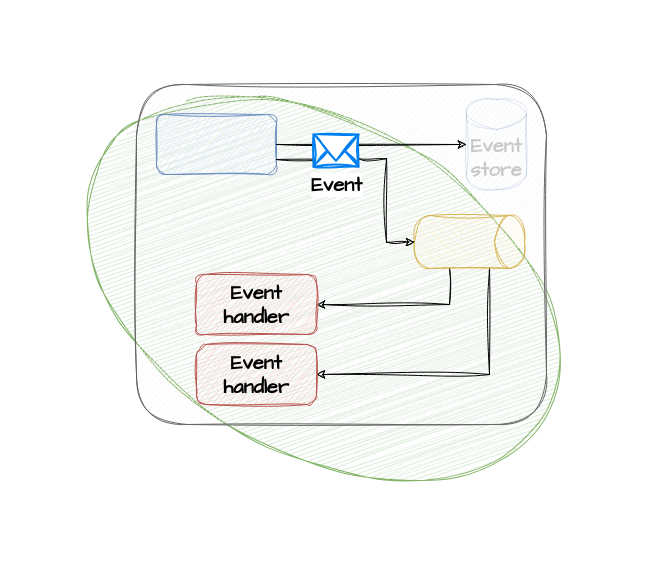
Image size: 645x578. Some labels were removed from this diagram. Here are the shapes that lost their labels. From the top down, the centre of each, then its label:
At point 216,144: "Command handler".
At point 469,241: "Event bus".
